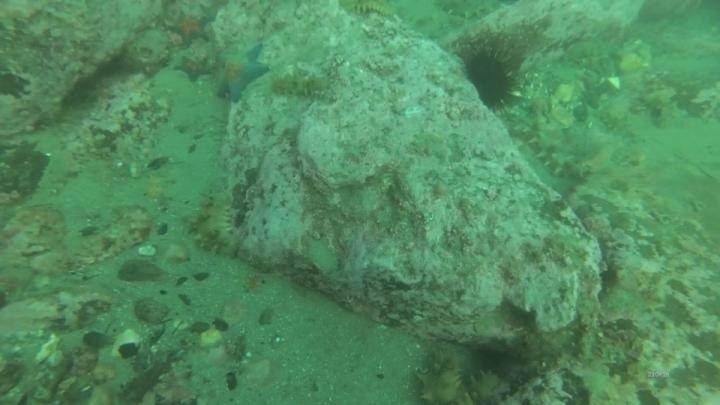echinus: (460, 44, 522, 112)
holothurian: (524, 113, 590, 183), (190, 186, 241, 258), (413, 347, 471, 405), (451, 367, 515, 403), (268, 68, 333, 101), (591, 108, 642, 148), (433, 1, 508, 23), (339, 1, 401, 22)
starfish: (212, 40, 271, 103), (165, 9, 213, 46), (172, 53, 213, 84)
